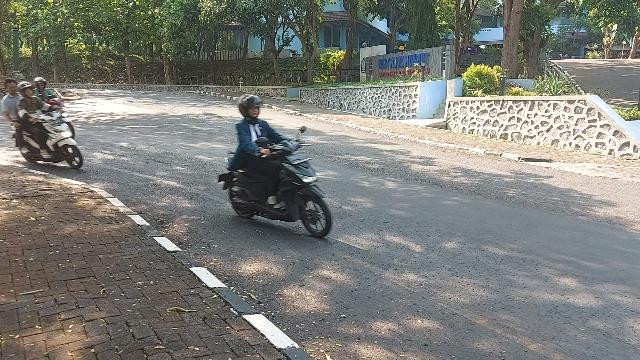helm: (240, 95, 264, 119), (19, 83, 36, 99), (35, 78, 47, 90)
motor: (218, 127, 333, 239), (12, 110, 84, 170)
non-helm: (5, 80, 19, 96)
